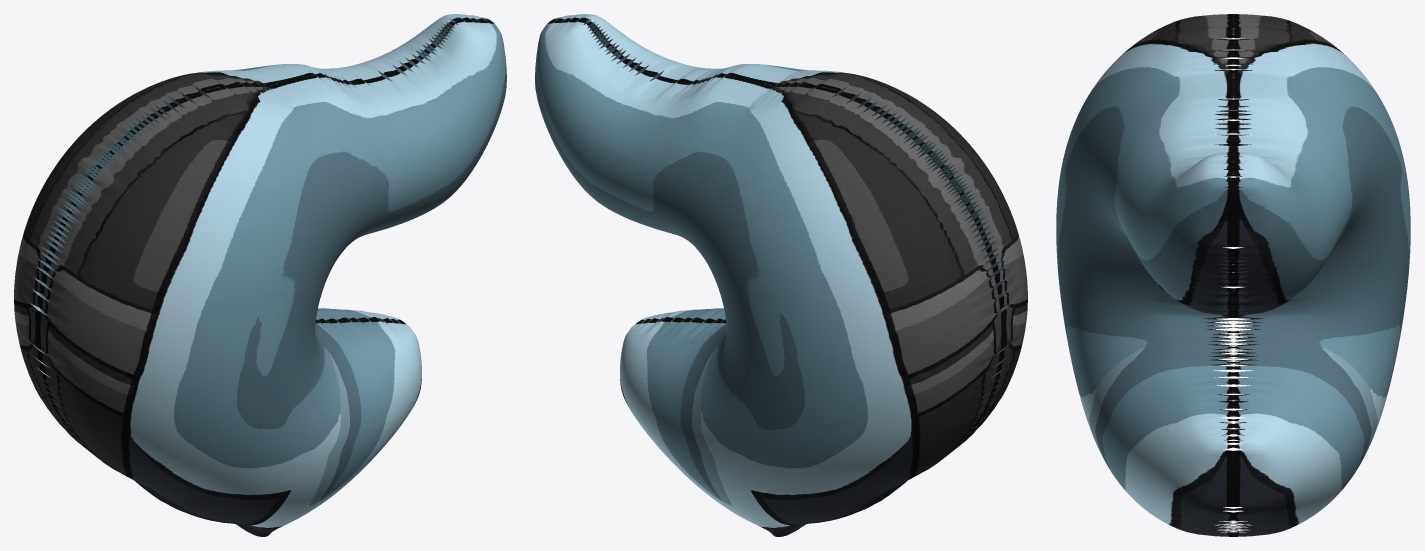
Rendered from bow_yoke.glb.
The picture shows the model from 3 angles, left to right: view 1: azimuth 30°, elevation 25°; view 2: azimuth 150°, elevation 25°; view 3: azimuth 270°, elevation 25°; orthographic projection. The views are drawn at different scales.
Visible parts, largest first — view 1: bow_yoke; view 2: bow_yoke; view 3: bow_yoke.
Part boxes in pixels (box(x1,y1,x2,y2)): bow_yoke: box(14, 14, 506, 536); bow_yoke: box(535, 14, 1027, 536); bow_yoke: box(1056, 14, 1410, 536).
Bounding box in the file's own units: 0.9889 × 0.9262 × 0.6061.
1 material, 1 textured.
